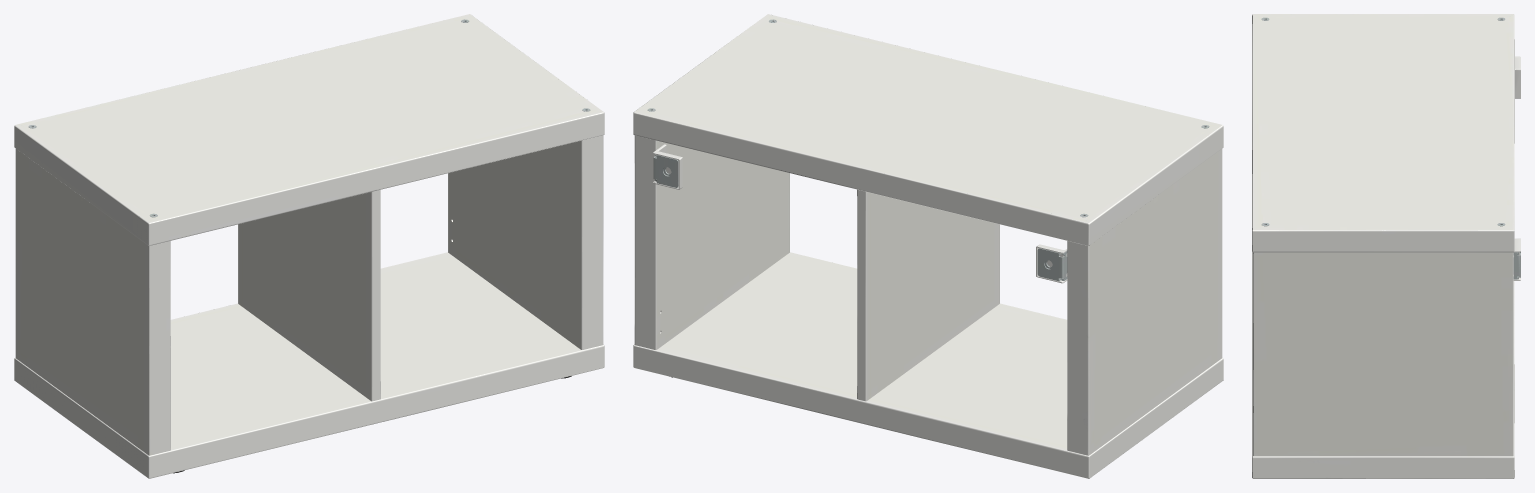
The model's file is kallax_rega_90301555.glb.
3 views of the same model, side by side, from view 1: azimuth 30°, elevation 25°; view 2: azimuth 150°, elevation 25°; view 3: azimuth 270°, elevation 25° (orthographic). The views are drawn at different scales.
Visible parts, largest first — view 1: kallax_rega_90301555; view 2: kallax_rega_90301555; view 3: kallax_rega_90301555.
Boxes of the visible parts, x1=… form: kallax_rega_90301555: x1=14, y1=14, x2=604, y2=478; kallax_rega_90301555: x1=633, y1=14, x2=1223, y2=478; kallax_rega_90301555: x1=1252, y1=14, x2=1520, y2=478.
Bounding box in the file's own units: 0.765 × 0.4163 × 0.401.
Materials: 1 (1 with a texture image).
